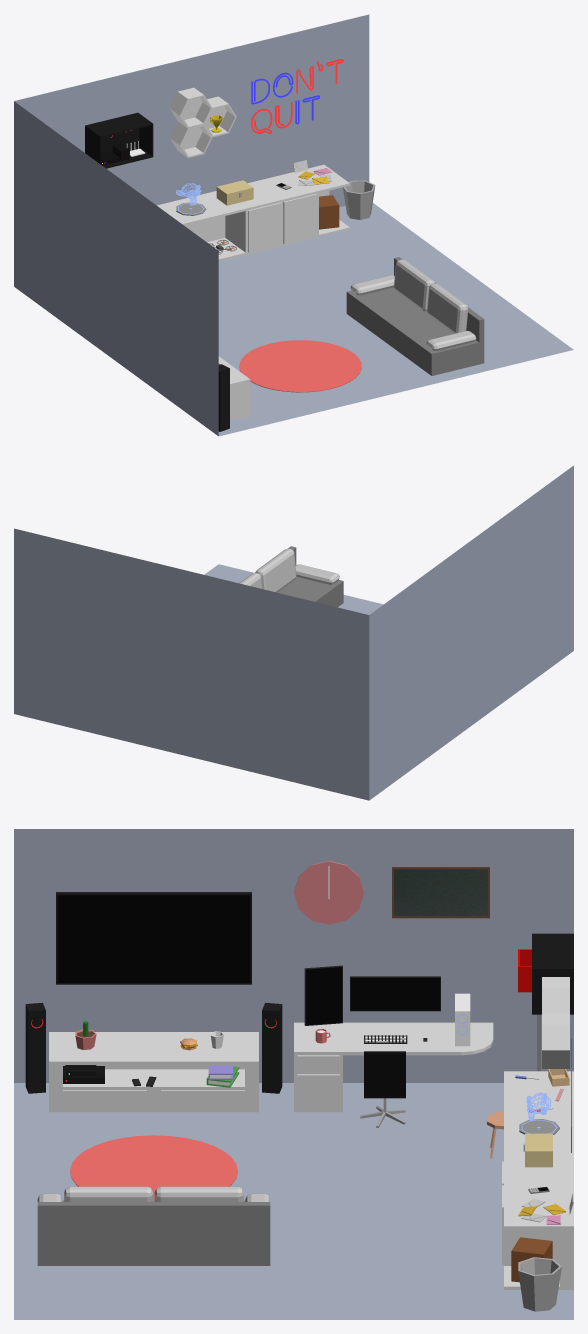
3 views of the same model, one above another, from view 1: azimuth 30°, elevation 25°; view 2: azimuth 150°, elevation 25°; view 3: azimuth 270°, elevation 25° (orthographic). The views are drawn at different scales.
Visible parts, largest first — view 1: b_Wall, f_Sofa, f_Shelf, f_Carpet, f_WallShelf, f_ServerBox, u_DontQuit, f_UnderTVShelf, f_Trash, d_Speakers, Chest.d, Box.d; view 2: b_Wall, f_Sofa; view 3: b_Wall, f_Sofa, TVScreen, f_UnderTVShelf, f_Desk, f_Shelf, f_Carpet, WallPhoto.d, d_Speakers, d_Clock, MonitorScreen, f_WallShelf (+10 smaller).
Boxes of the visible parts, left/top/right/bottom form: b_Wall: left=14, top=14, right=573, bottom=436; f_Sofa: left=346, top=257, right=484, bottom=375; f_Shelf: left=157, top=164, right=349, bottom=261; f_Carpet: left=239, top=340, right=361, bottom=392; f_WallShelf: left=169, top=87, right=236, bottom=157; f_ServerBox: left=85, top=112, right=153, bottom=168; u_DontQuit: left=251, top=59, right=343, bottom=134; f_UnderTVShelf: left=218, top=356, right=250, bottom=421; f_Trash: left=343, top=180, right=375, bottom=219; d_Speakers: left=218, top=364, right=229, bottom=431; Chest.d: left=216, top=180, right=253, bottom=205; Box.d: left=319, top=195, right=339, bottom=229; b_Wall: left=14, top=465, right=573, bottom=800; f_Sofa: left=239, top=546, right=343, bottom=607; b_Wall: left=14, top=829, right=573, bottom=1319; f_Sofa: left=37, top=1186, right=270, bottom=1265; TVScreen: left=57, top=895, right=250, bottom=982; f_UnderTVShelf: left=49, top=1032, right=258, bottom=1112; f_Desk: left=294, top=1022, right=493, bottom=1112; f_Shelf: left=502, top=1114, right=573, bottom=1289; f_Carpet: left=70, top=1135, right=237, bottom=1200; WallPhoto.d: left=392, top=867, right=489, bottom=918; d_Speakers: left=25, top=1002, right=282, bottom=1093; d_Clock: left=294, top=861, right=363, bottom=924; MonitorScreen: left=350, top=978, right=440, bottom=1010; f_WallShelf: left=542, top=977, right=569, bottom=1068.
Size of the model in its own units: 8.01 by 4 by 8.
Materials: 87 (2 with a texture image).
